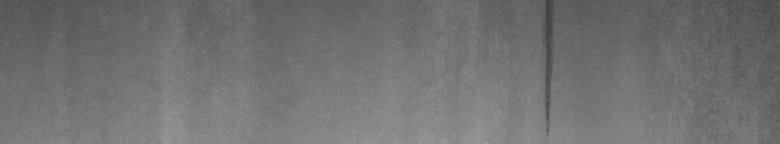hd: (539, 4, 559, 136)
